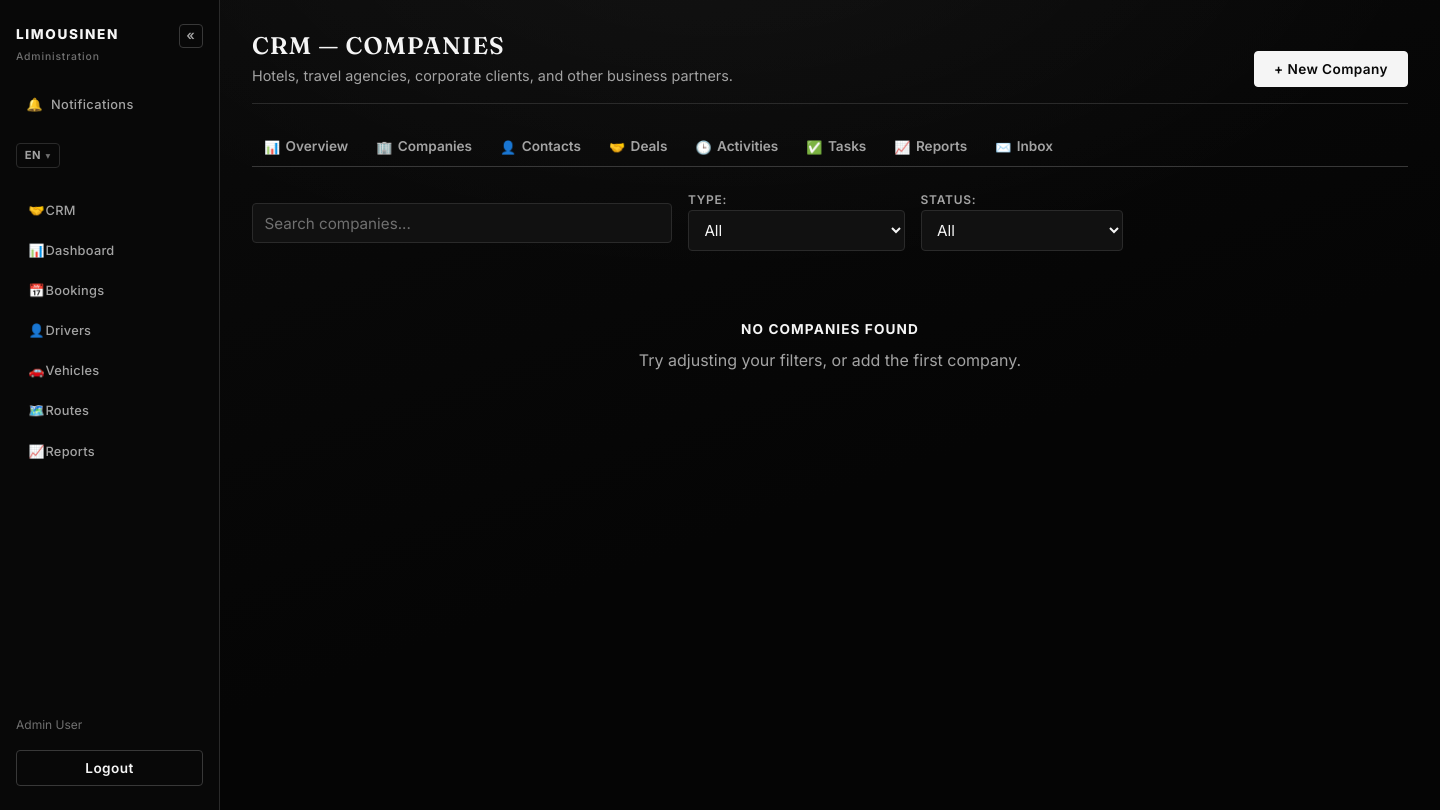
CrmCompaniesPage › rejects an empty create-company form client-side
Expected: the text "No Companies Found" is shown, [741,321,919,337]
Click the button "+ New Company" at (1331, 69), box [1254,52,1408,87]
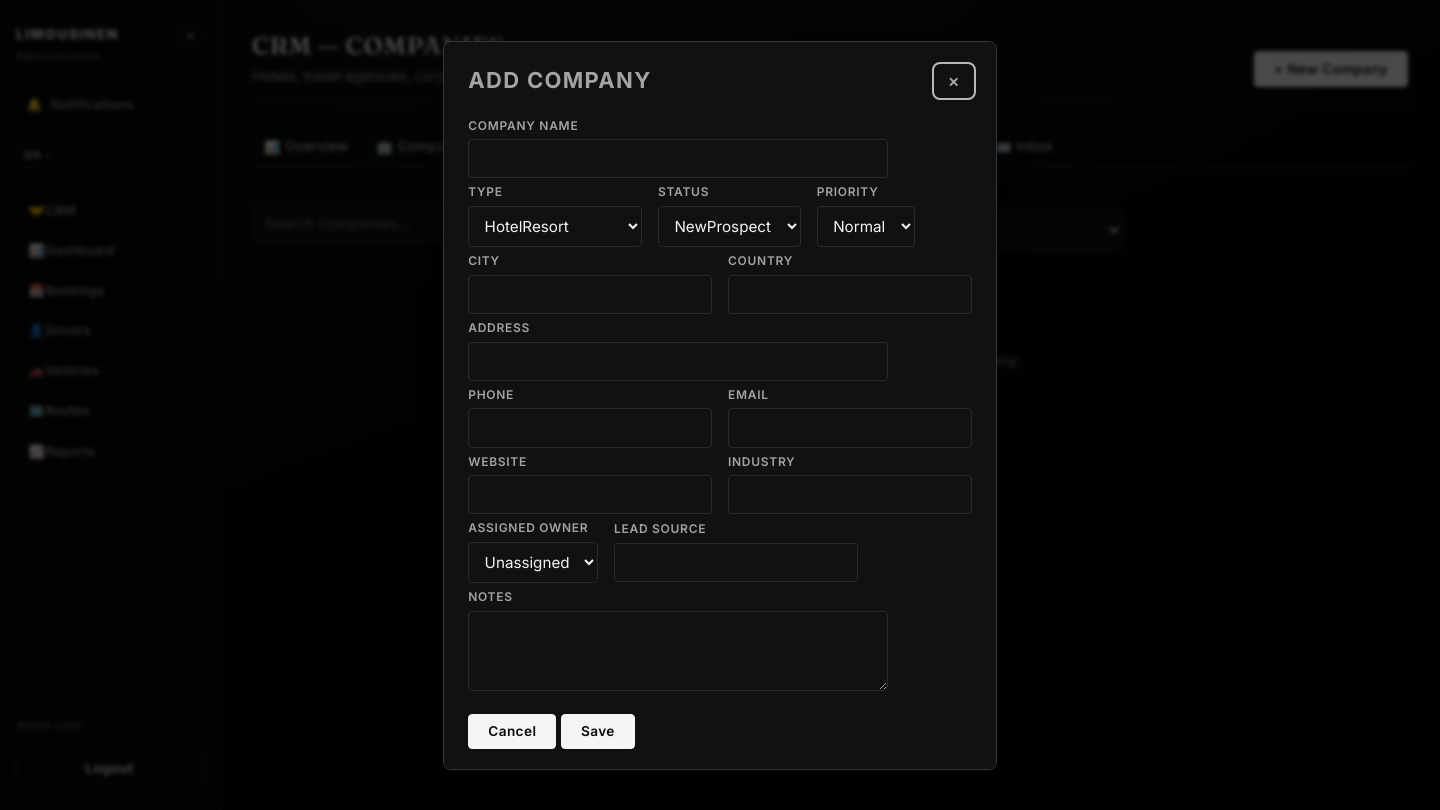
Click the button "Save" at (598, 731), box [561,714,635,749]
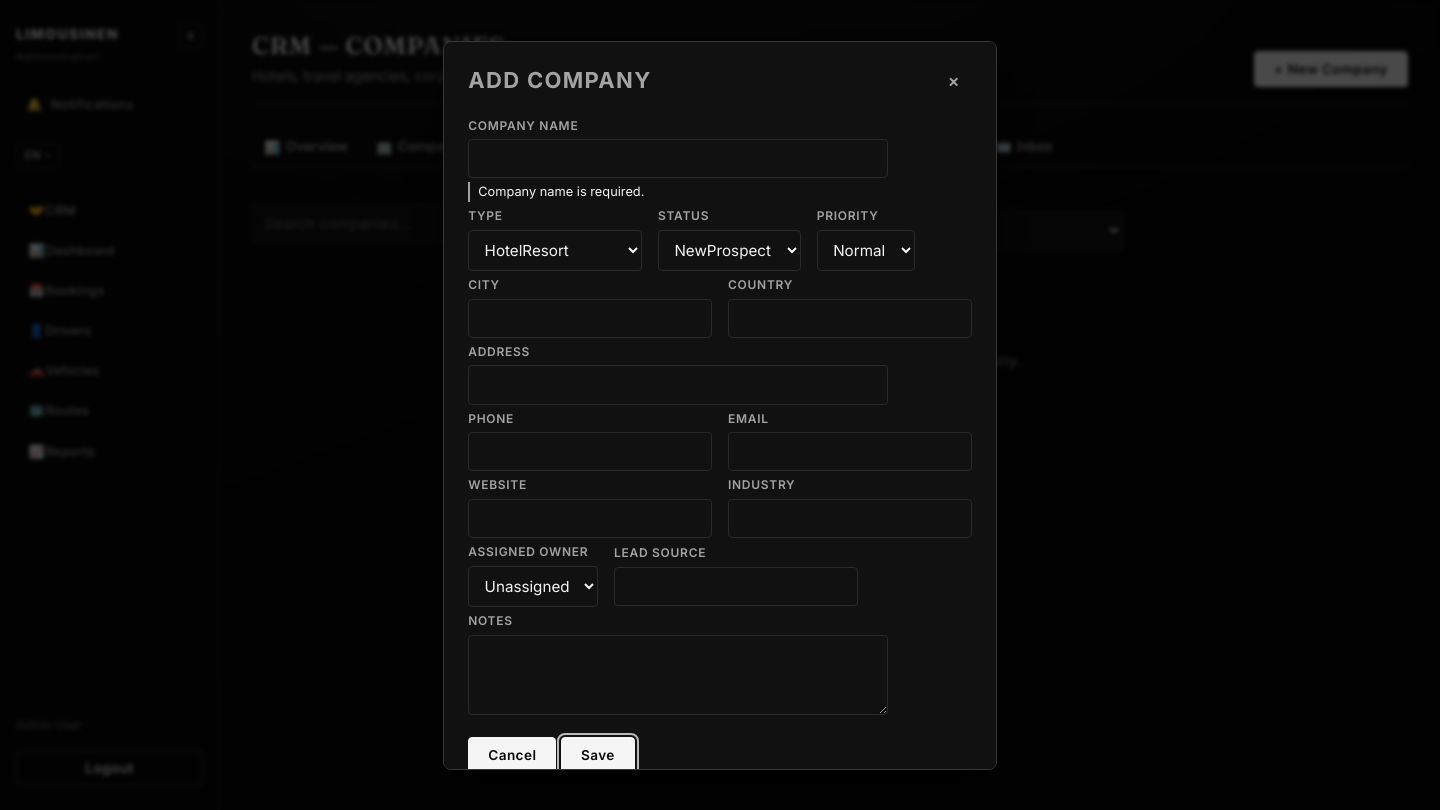
Expected: the text "Company name is required." is shown, [468,182,972,202]
